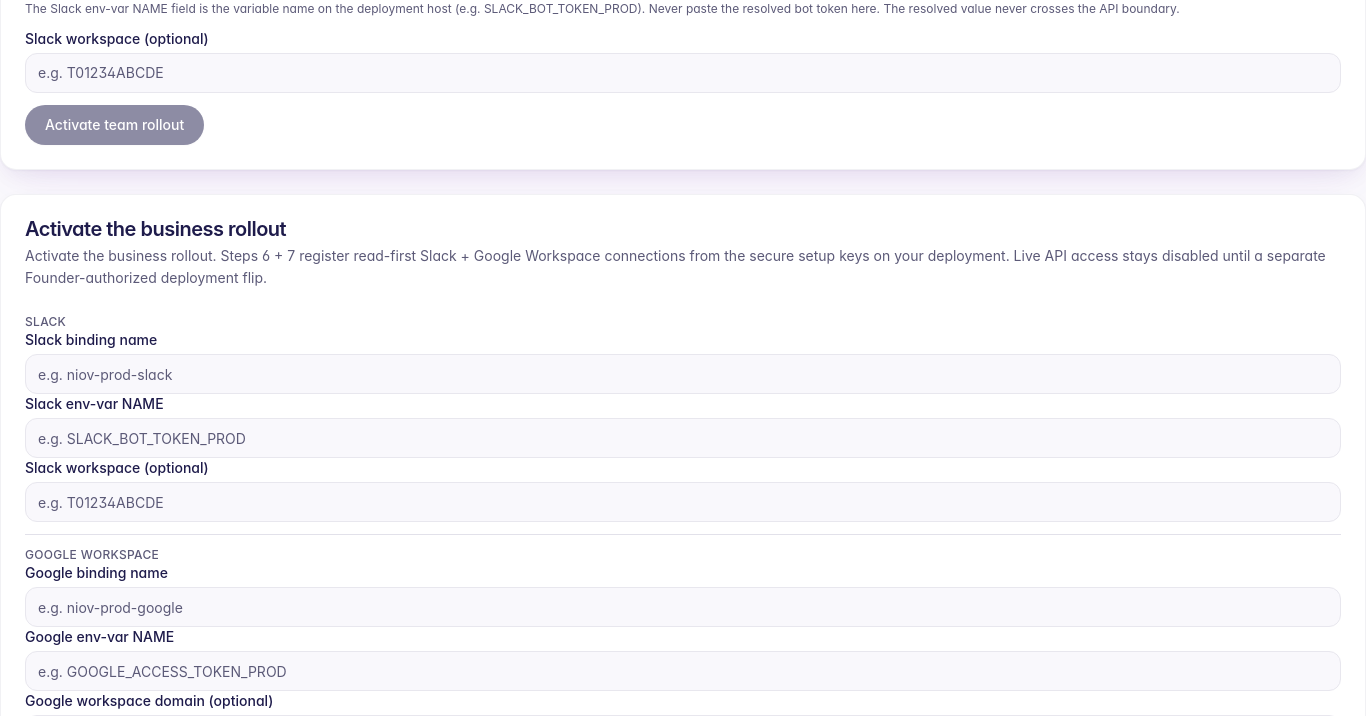
Test case: D6 business — successful activation › renders all 11 step cards in order after a successful POST
(page scrolled)
Type "niov-prod-slack" into the field with test id "business-slack-display-name-input". click: (683, 374)
box: [25,354,1341,394]
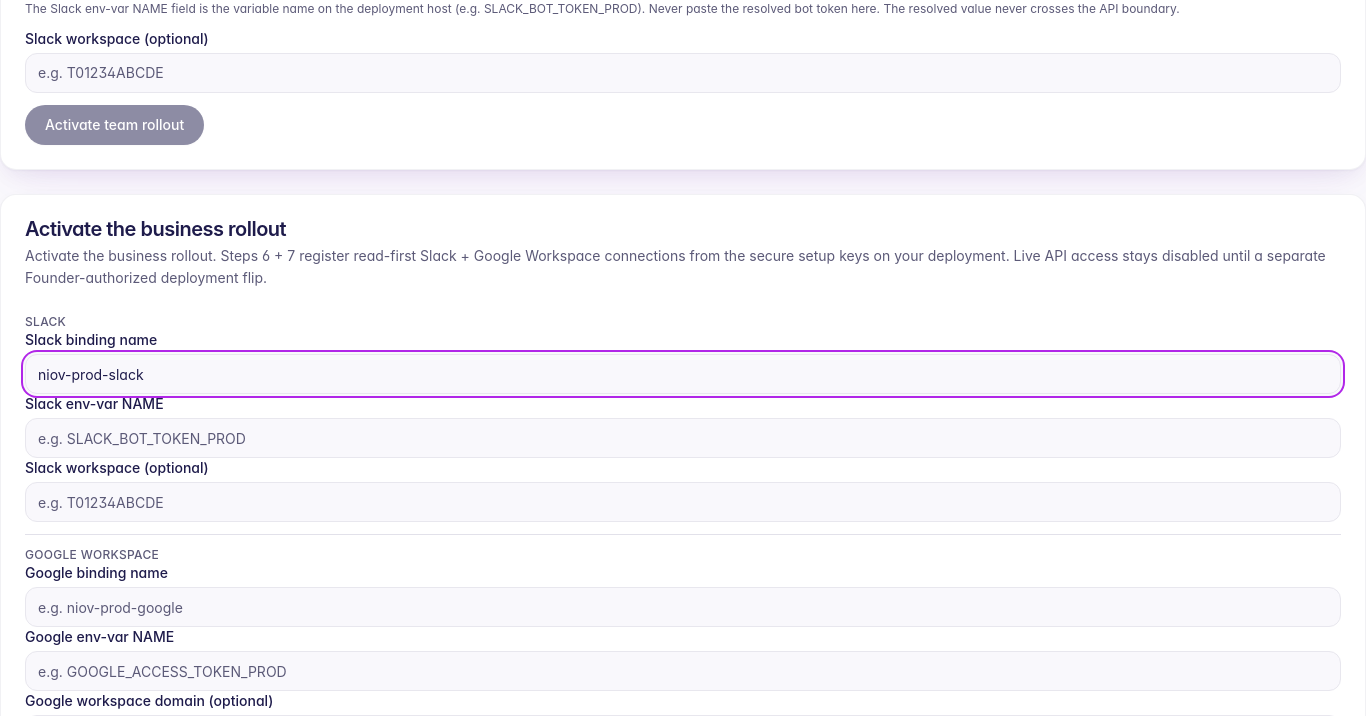
Type "SLACK_BOT_TOKEN_PROD" into the field with test id "business-slack-secret-ref-input". click: (683, 438)
box: [25,418,1341,458]
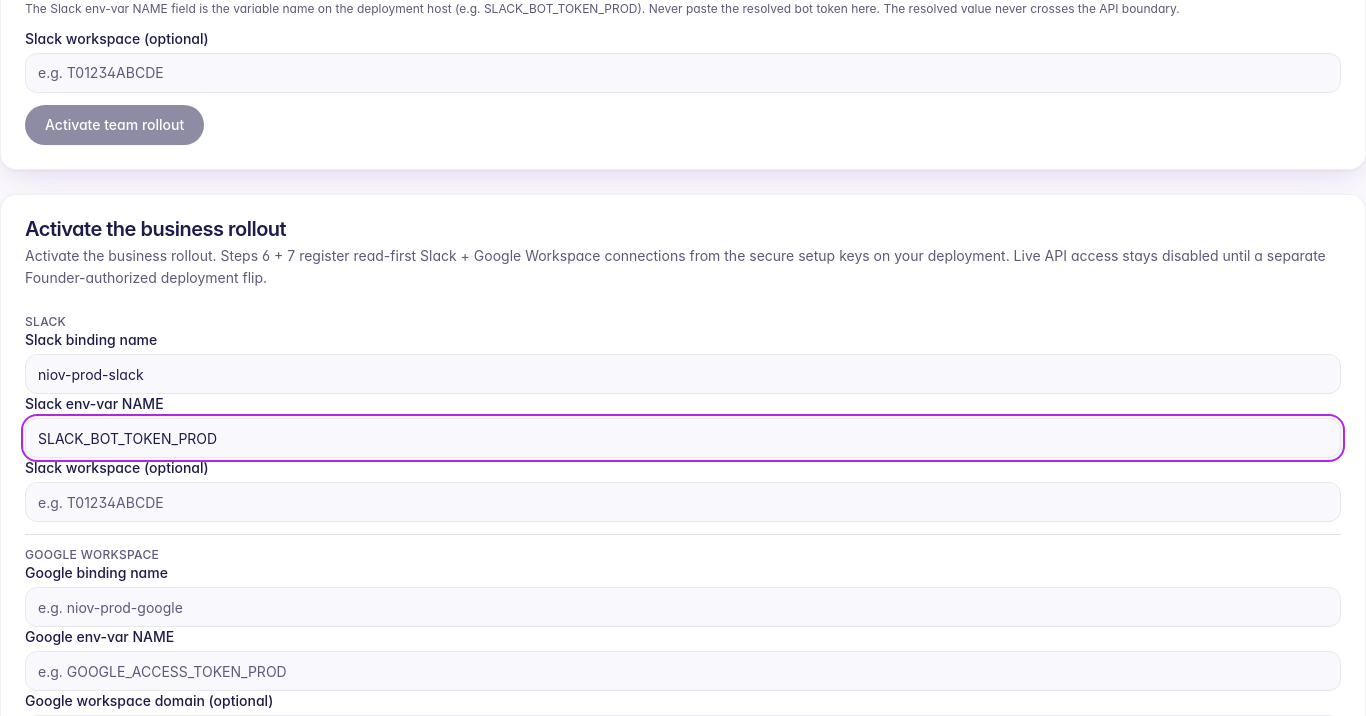
Type "niov-prod-google" into the field with test id "business-google-display-name-input". click: (683, 607)
box: [25,587,1341,627]
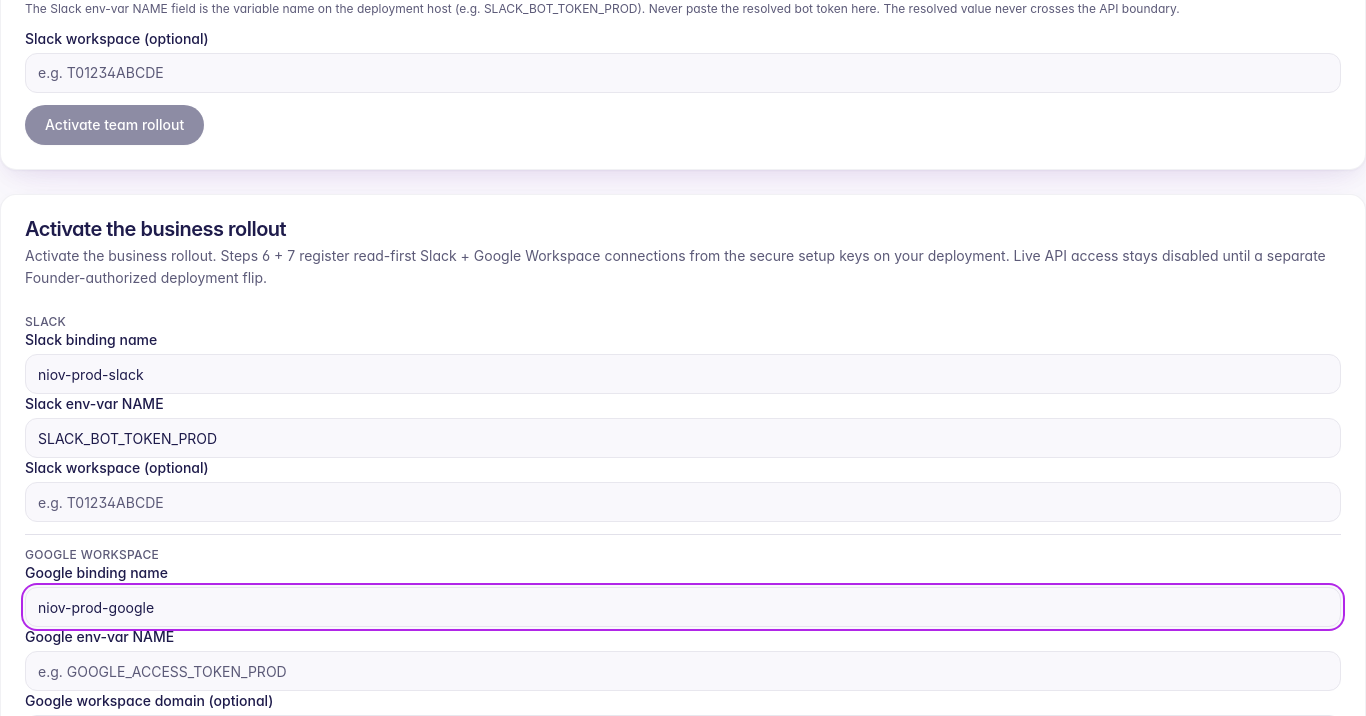
Type "GOOGLE_ACCESS_TOKEN_PROD" into the field with test id "business-google-secret-ref-input". click: (683, 671)
box: [25,651,1341,691]
(page scrolled)
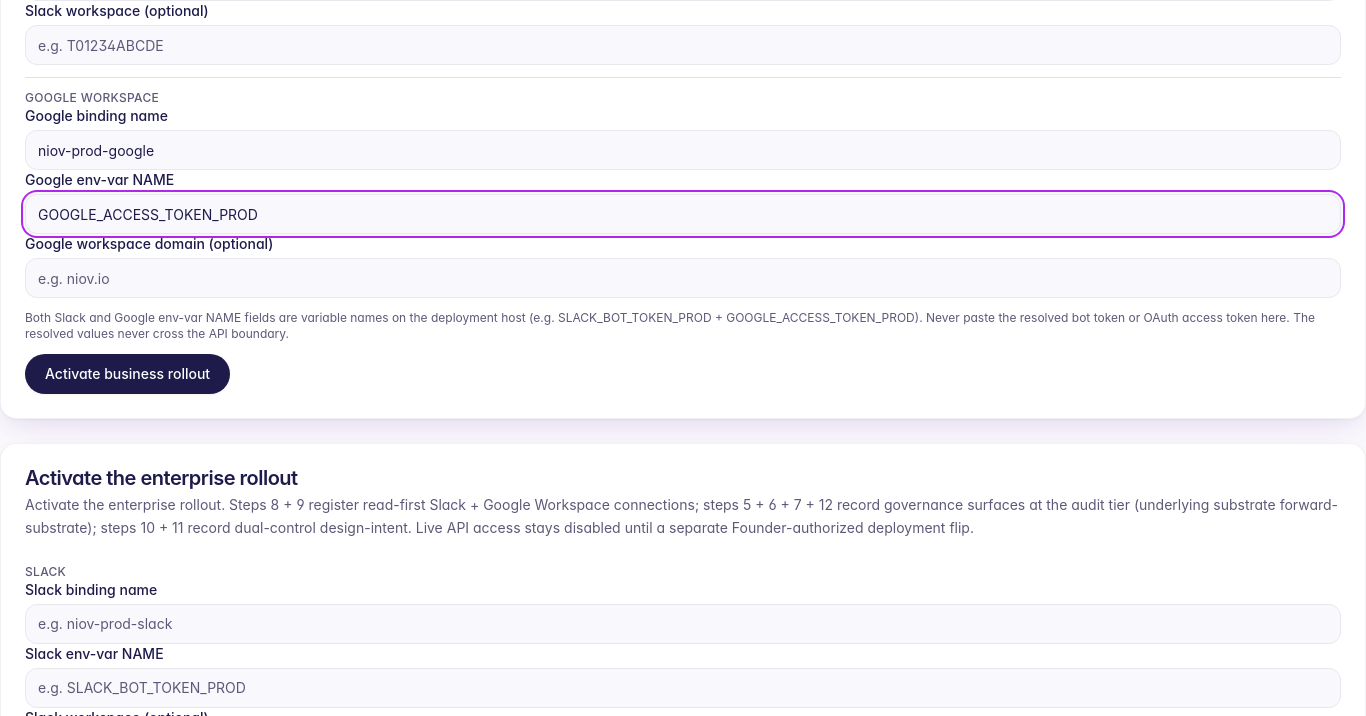
Click the button with test id "activate-business-button". click: (128, 374)
box: [25,354,230,394]
(page scrolled)
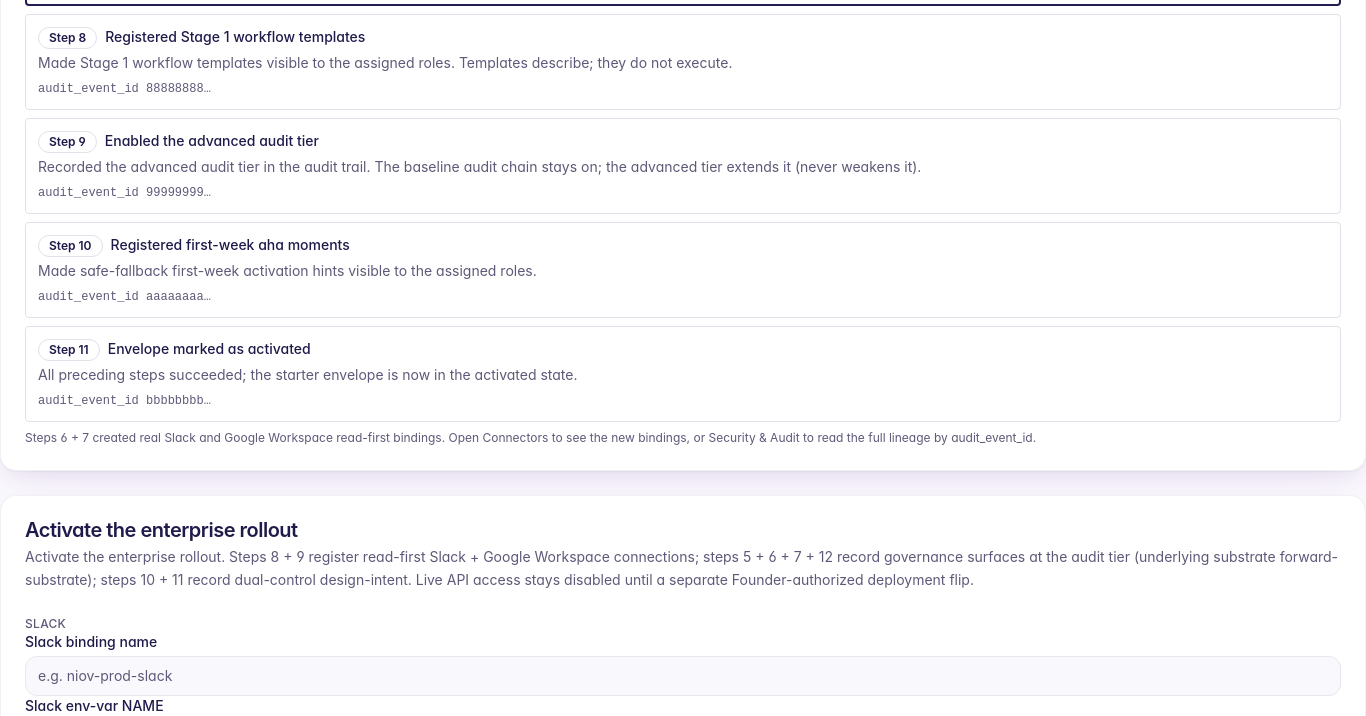
Check: the element with test id "activation-step-9" is shown, box [25,118,1341,214]
